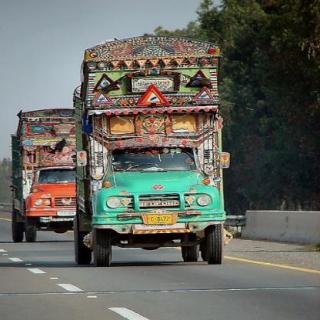Normal_vehicle: (66, 38, 230, 267)
